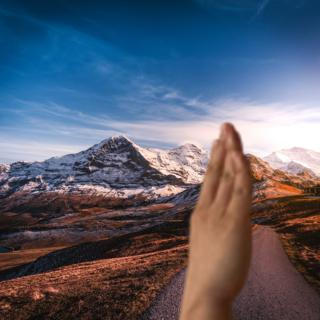RIGHT: (183, 119, 260, 304)
